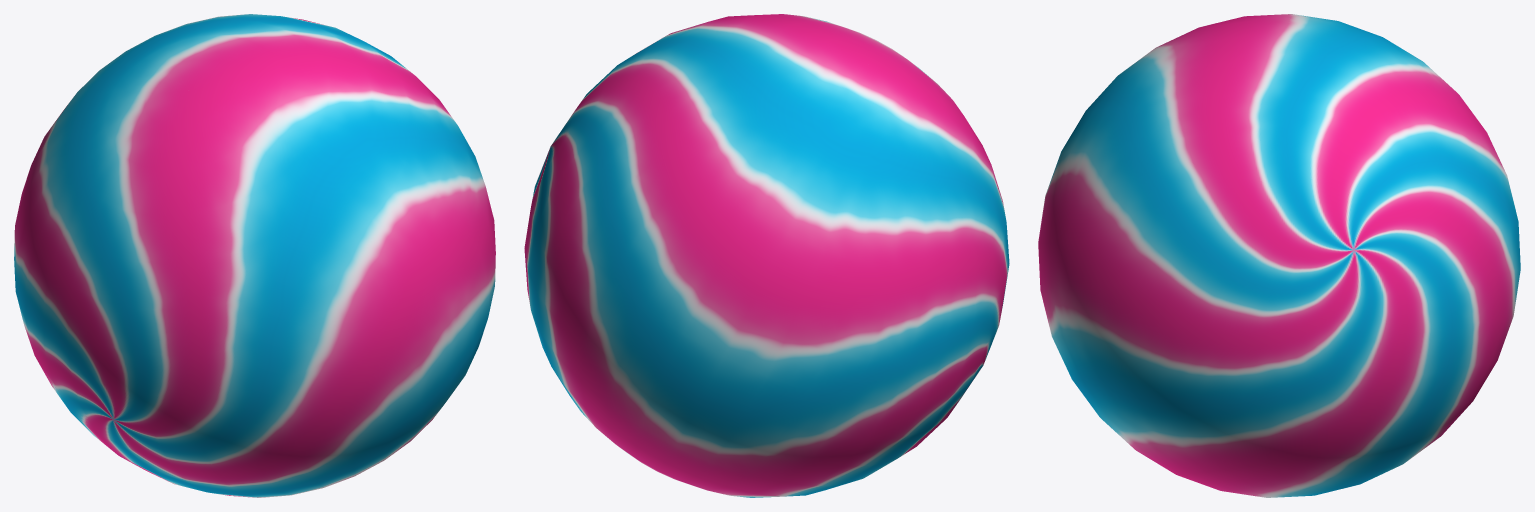
File: ball_candySwirl.gltf
3 views of the same model, side by side, from view 1: azimuth 30°, elevation 25°; view 2: azimuth 150°, elevation 25°; view 3: azimuth 270°, elevation 25° (orthographic).
Parts seen in each view (by area): view 1: candySwirl; view 2: candySwirl; view 3: candySwirl.
Part boxes in pixels (bbox=[...]): candySwirl: bbox=[14, 14, 495, 497]; candySwirl: bbox=[524, 14, 1009, 497]; candySwirl: bbox=[1038, 14, 1520, 497].
Size of the model in its own units: 0.2499 by 0.2498 by 0.249.
Materials: 1 (1 with a texture image).
